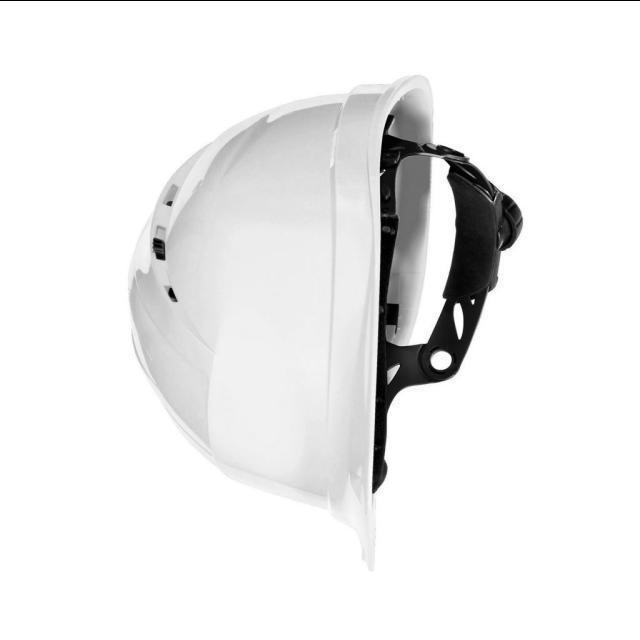safety_helmet: (126, 73, 519, 570)
